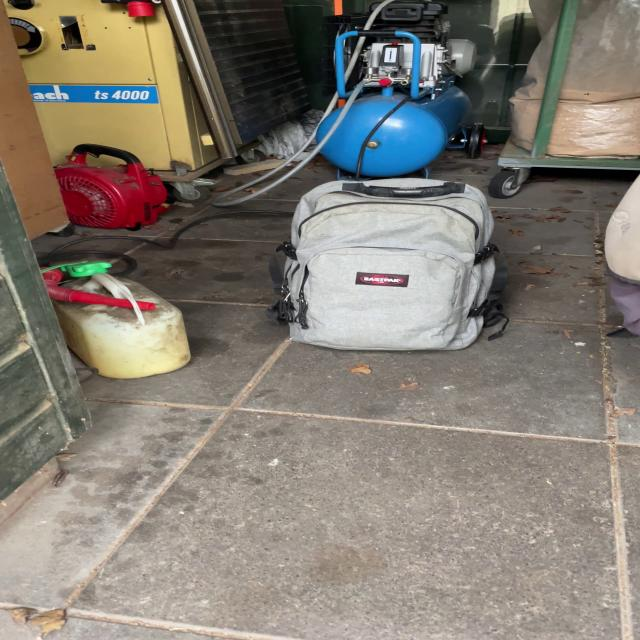backpack: (257, 167, 518, 359)
